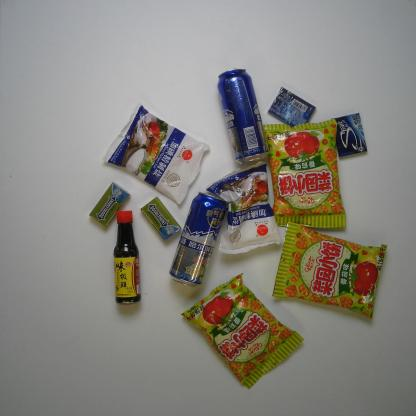Alcohol: (169, 191, 229, 289), (215, 66, 272, 165)
Gum: (267, 87, 316, 130), (330, 110, 371, 158), (138, 196, 181, 241), (88, 183, 131, 226)
Puffed Food: (178, 271, 305, 390), (271, 220, 386, 321), (262, 119, 349, 232)
Seasoner: (104, 103, 209, 208), (206, 166, 289, 256), (109, 210, 143, 306)
